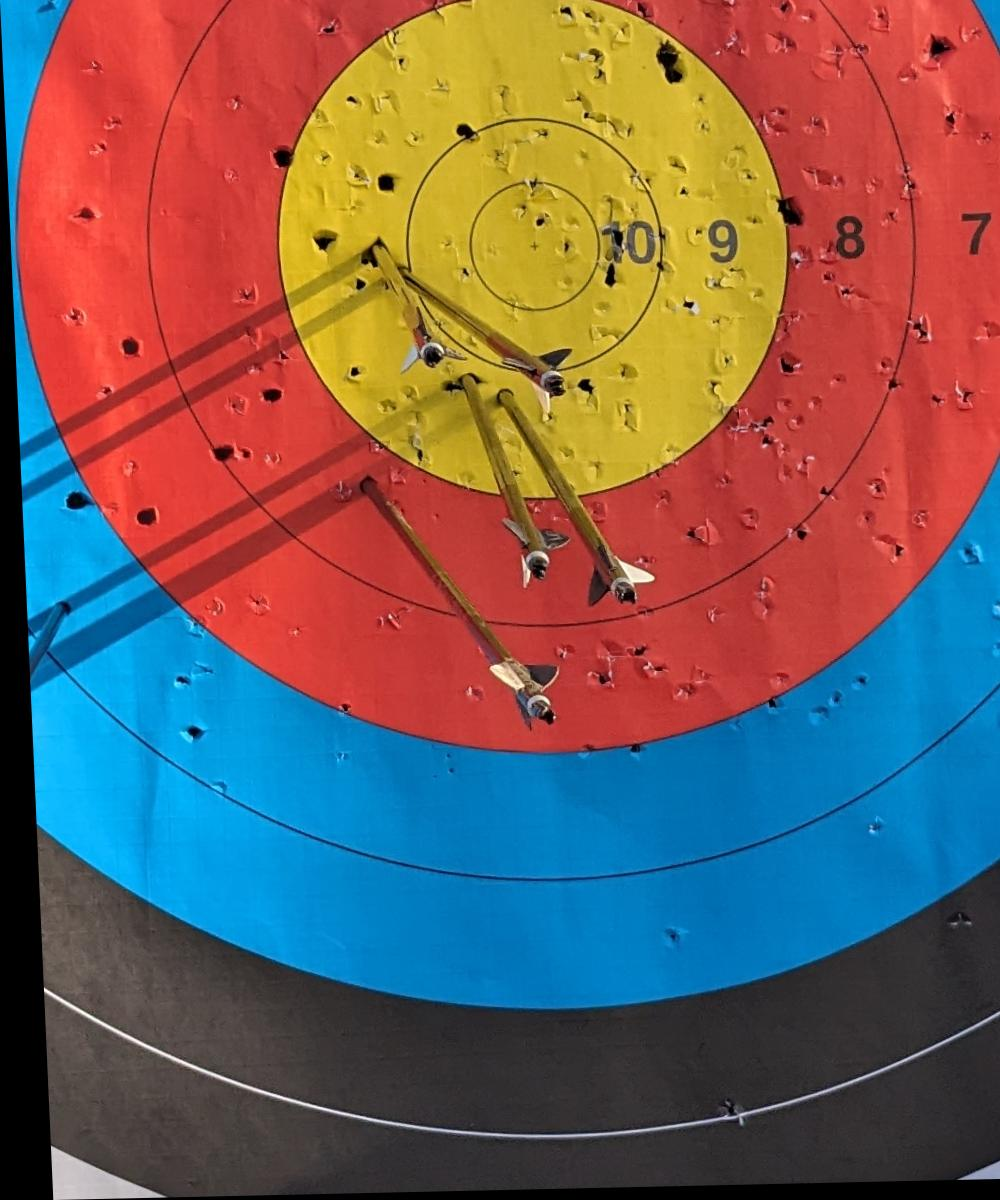10-Ring: (365, 80, 699, 416)
7-Ring: (17, 0, 1000, 753)
8-Ring: (146, 0, 914, 628)
9-Ring: (276, 0, 784, 500)
Arrow: (342, 457, 577, 739), (449, 390, 655, 629), (378, 234, 585, 417), (433, 368, 575, 592), (370, 233, 465, 377)
